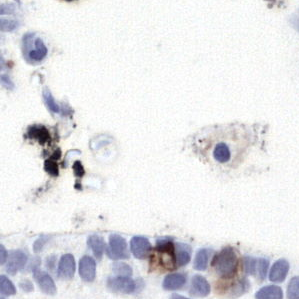Lymphocyte: (148, 241, 179, 271)
